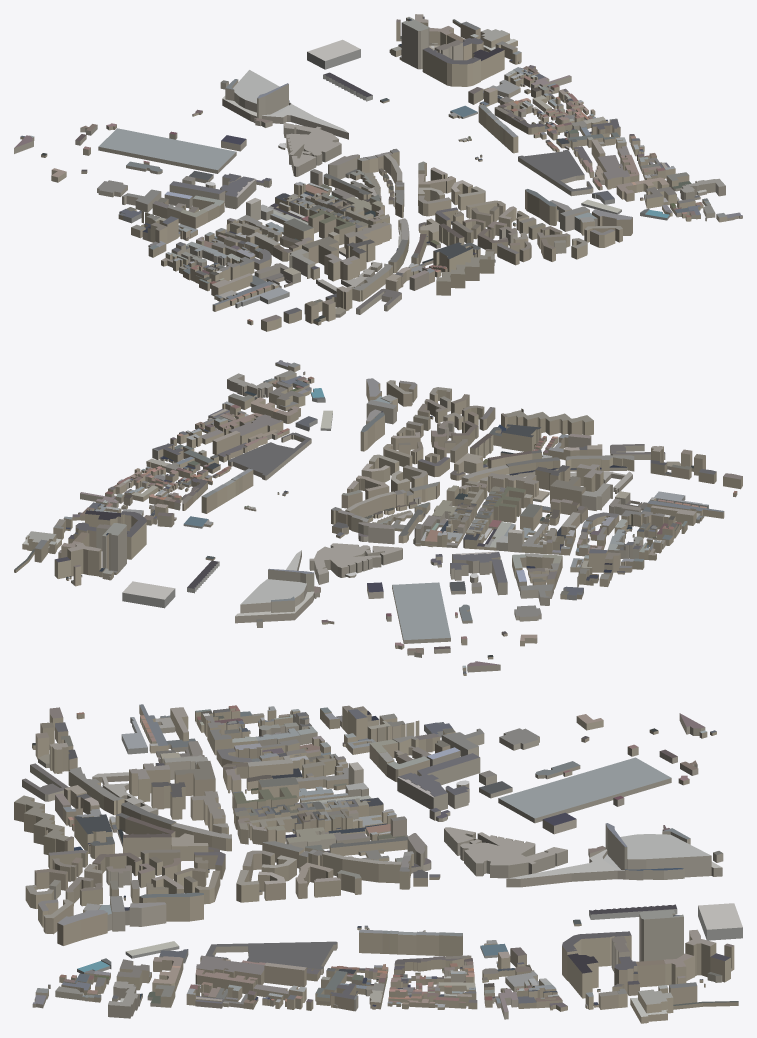
The picture shows the model from 3 angles, top to bottom: view 1: azimuth 30°, elevation 25°; view 2: azimuth 150°, elevation 25°; view 3: azimuth 270°, elevation 25°; orthographic projection. The views are drawn at different scales.
Parts seen in each view (by area): view 1: tuile; view 2: tuile; view 3: tuile.
Part boxes in pixels (x1,y1,x2,y2): tuile: [14, 14, 742, 331]; tuile: [14, 360, 742, 675]; tuile: [14, 704, 742, 1023].
Size of the model in its own units: 1062 by 83.51 by 1051.
